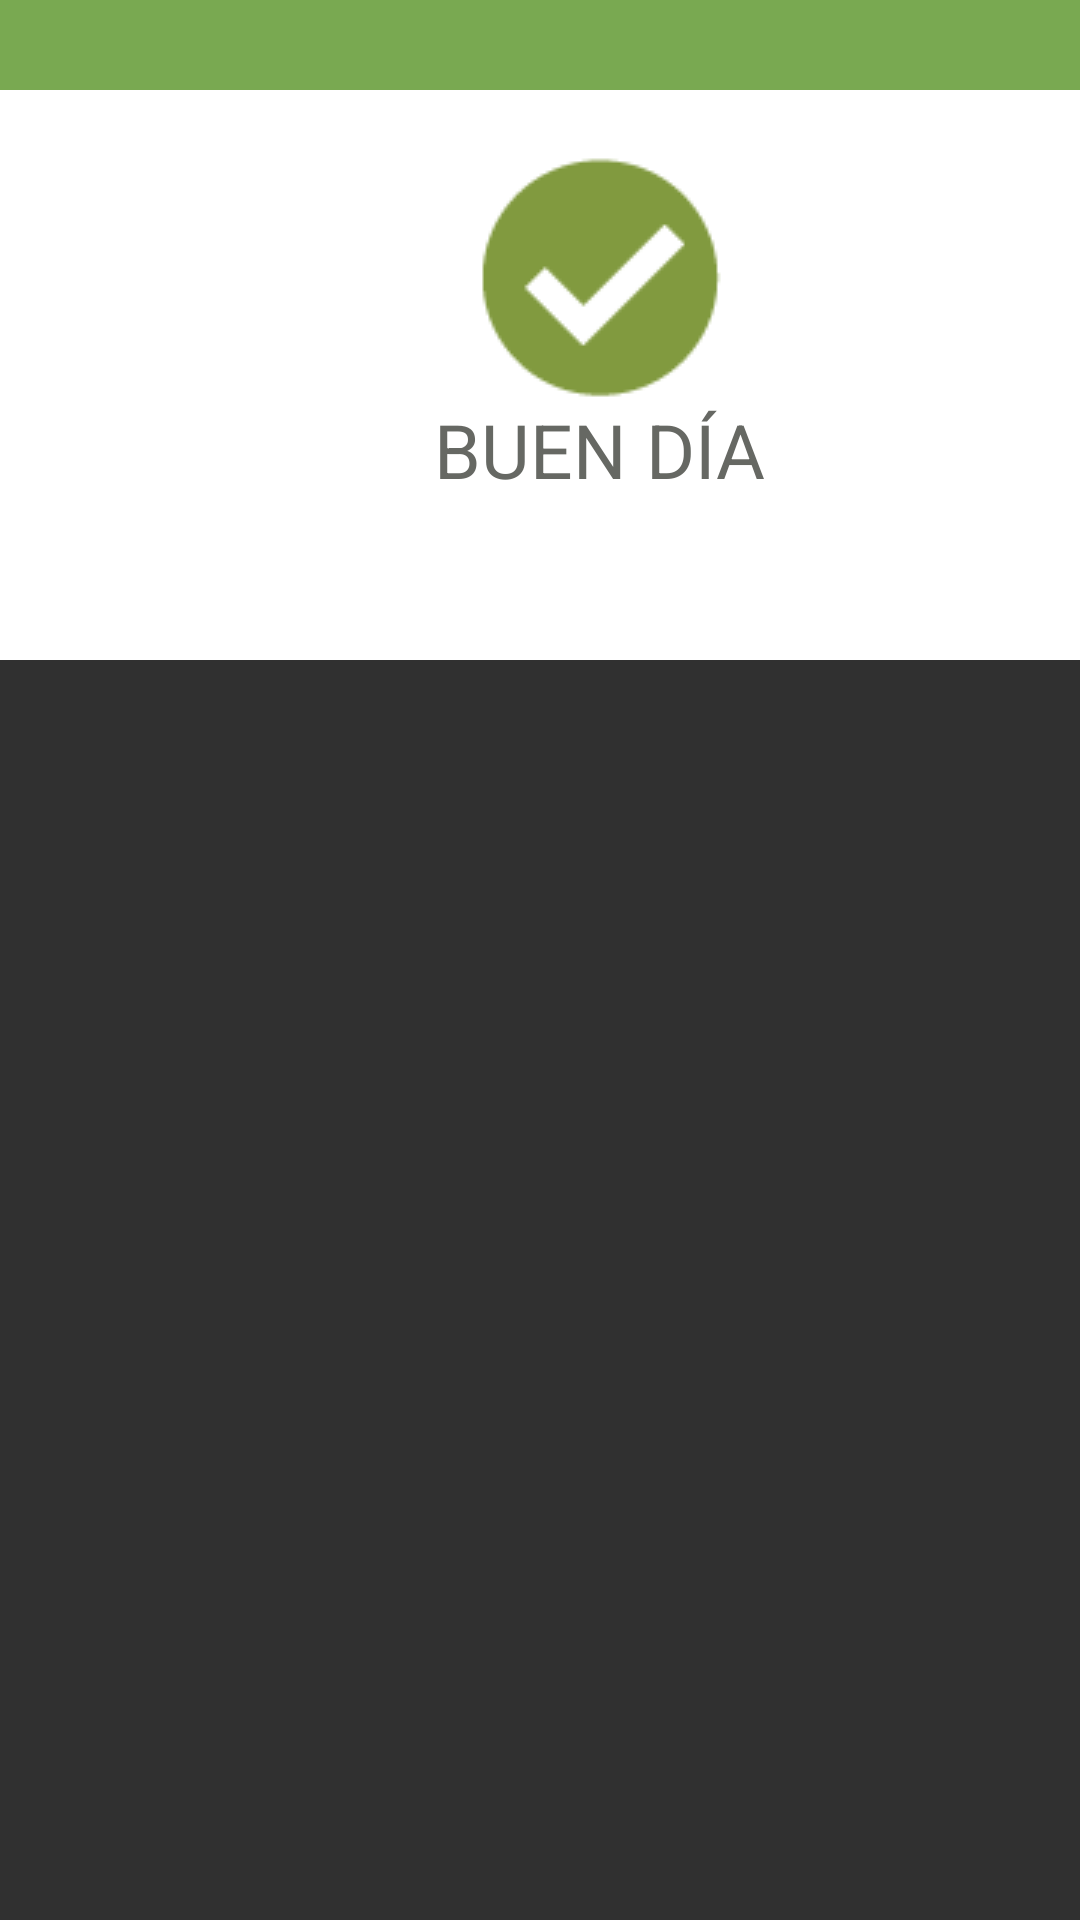

Icons on this 1080x1920 Android screen, each with its box as (left=x1, top=y1, right=x2, bottom=y2):
correcto: (left=482, top=158, right=720, bottom=397)
